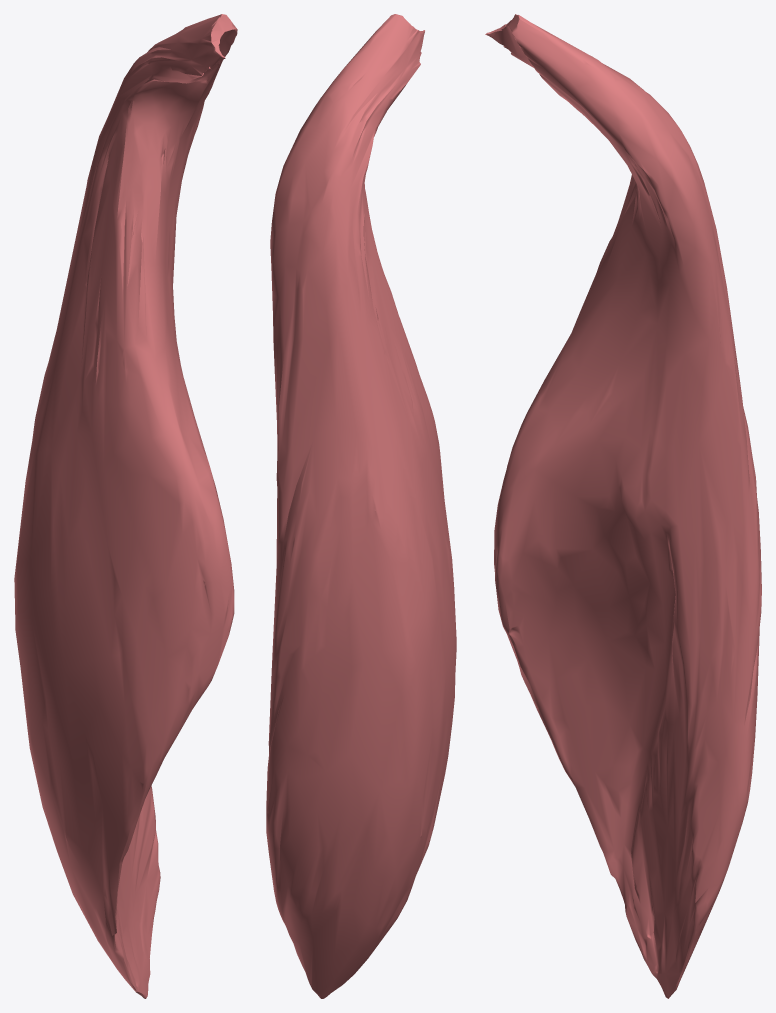
3 views of the same model, side by side, from view 1: azimuth 30°, elevation 25°; view 2: azimuth 150°, elevation 25°; view 3: azimuth 270°, elevation 25° (orthographic). The views are drawn at different scales.
Visible parts, largest first — view 1: FJ1397M; view 2: FJ1397M; view 3: FJ1397M.
Boxes of the visible parts, x1,y1,x2,y2 form: FJ1397M: (14,14,237,998); FJ1397M: (266,14,456,998); FJ1397M: (485,14,761,998).
Size of the model in its own units: 0.0522 by 0.3076 by 0.0786.
